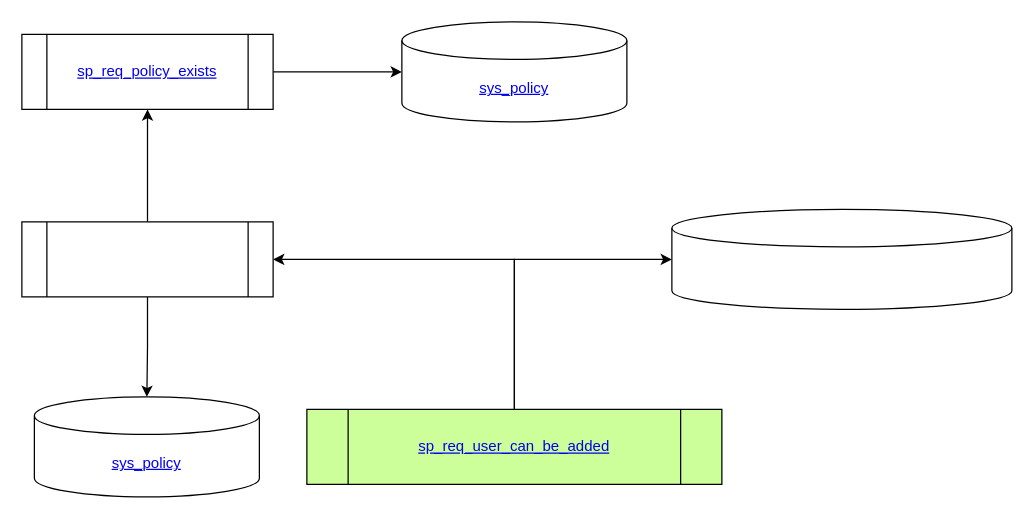
The diagram is 1034 pixels wide and 519 high, and some of its shapes have lost their labels. Here are the shapes that lost their labels. From the top down, the centre of each, then its label:
At [147,259]: "sp_req_policy_direction".
At [841,258]: "USERS".
